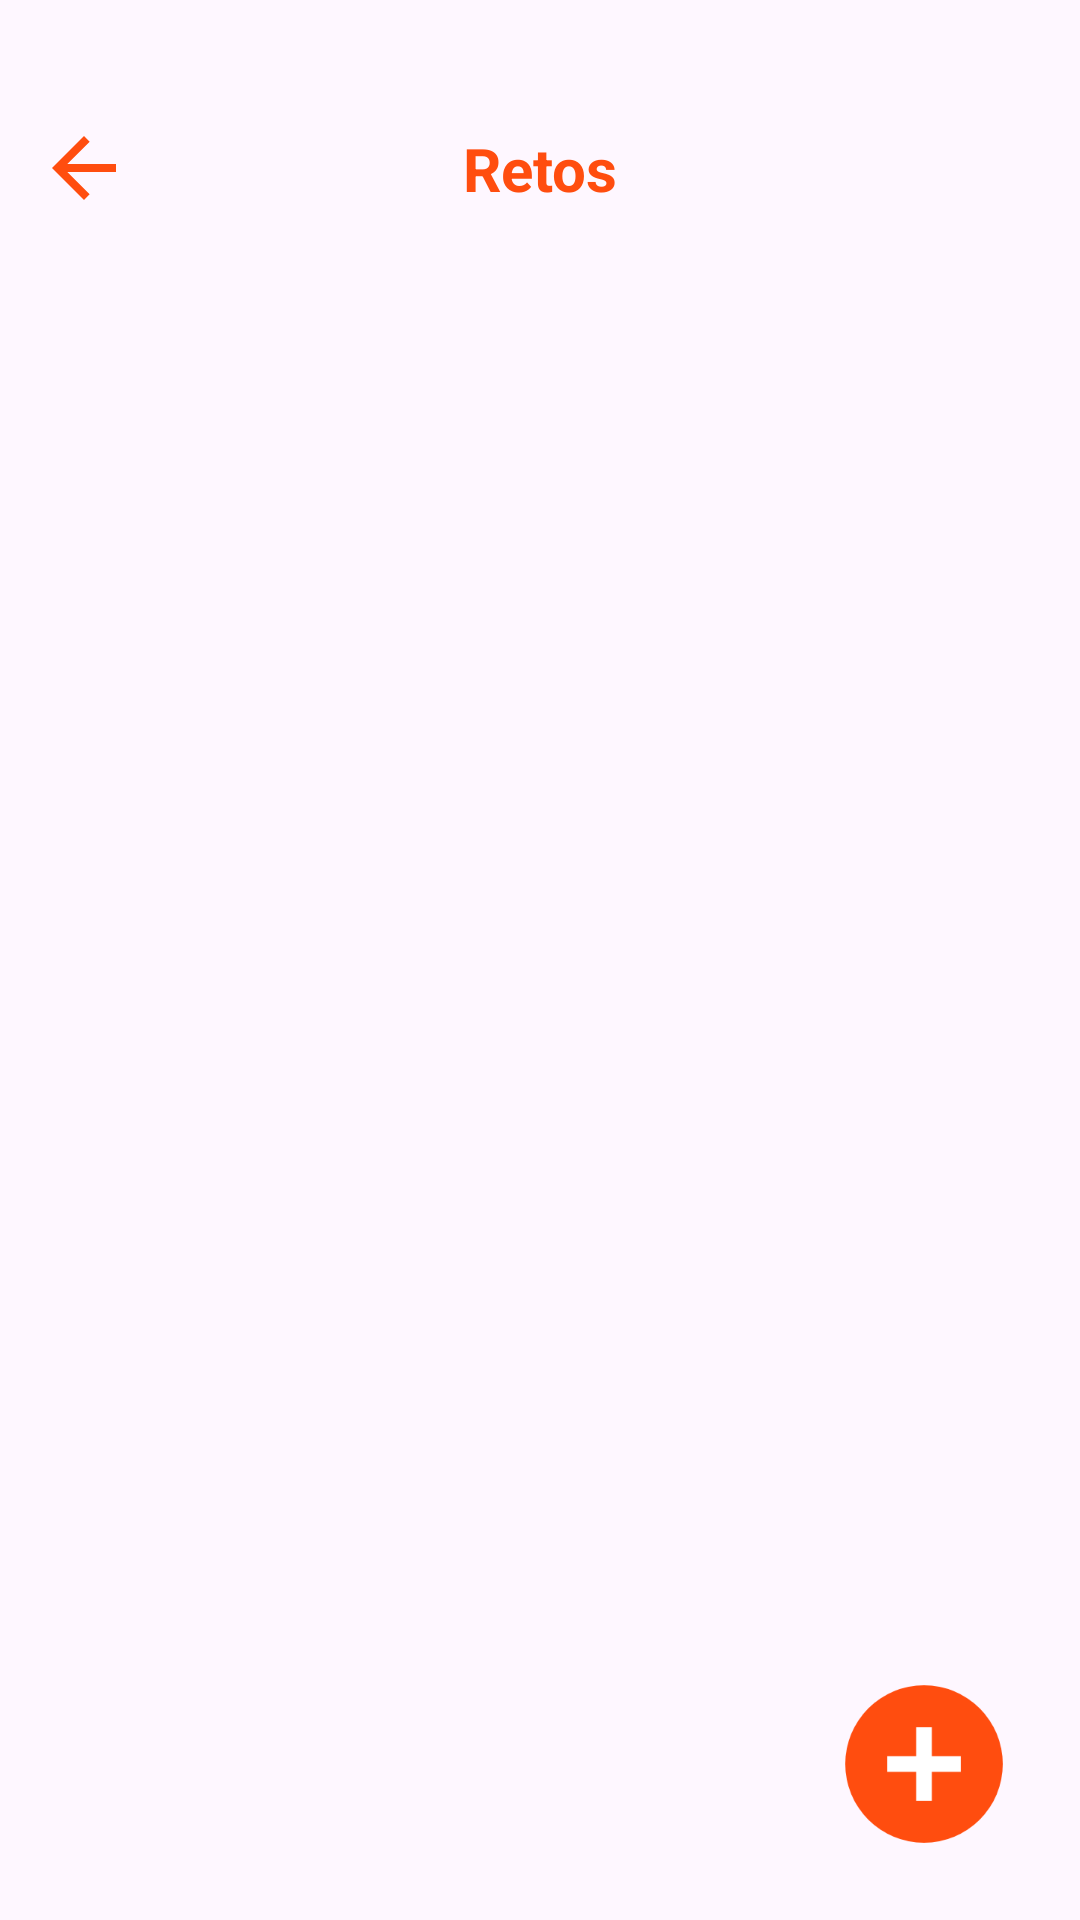

Icons on this 1080 x 1920 Android screen, each with its box as (x1, y1, x2, y2):
Add challenge: (845, 1685, 1003, 1843)
Back: (52, 136, 116, 200)
